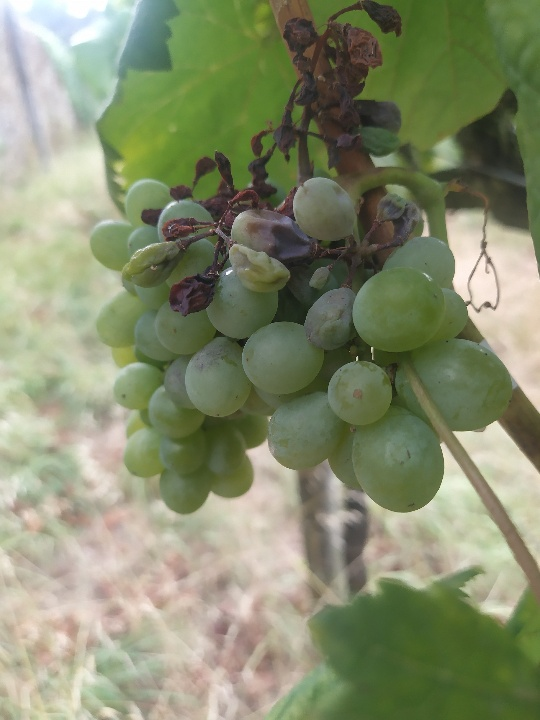grape: (85, 0, 519, 519)
